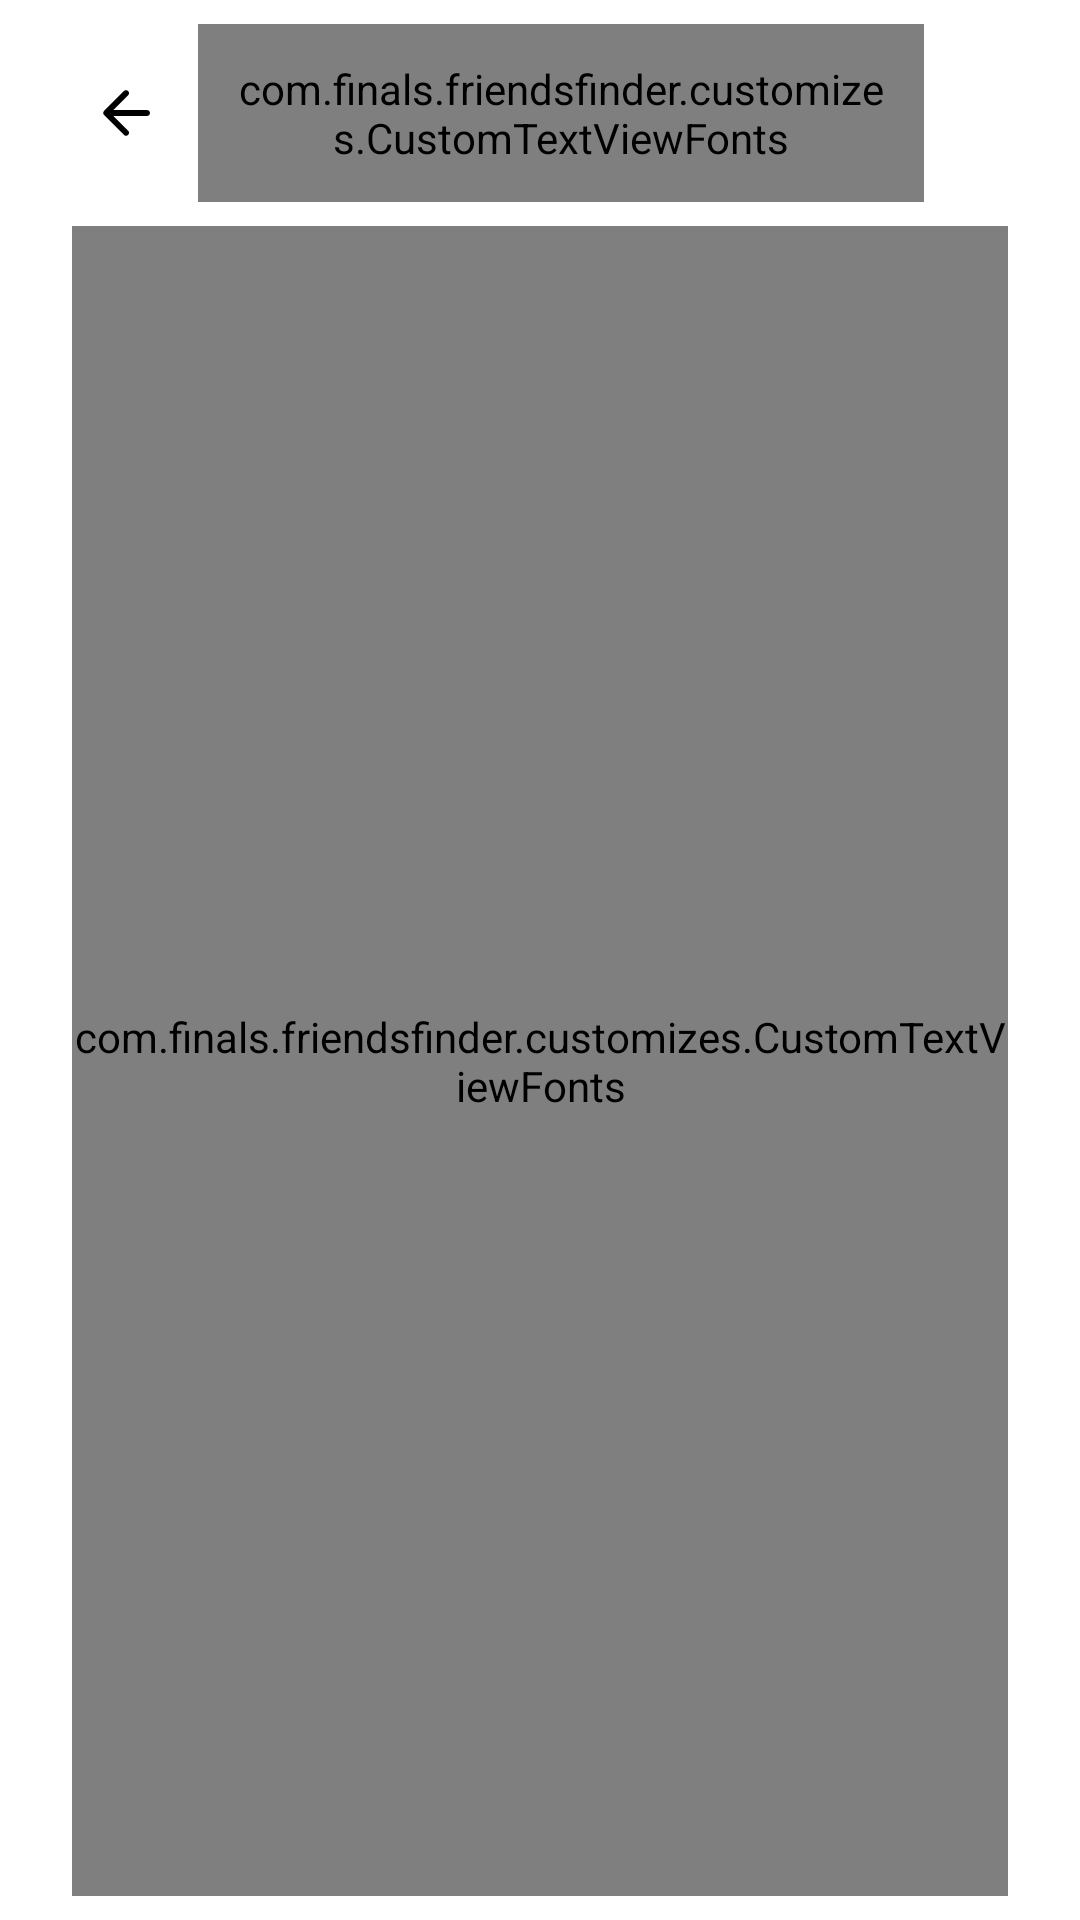

Icon click points for this 1080x1920 phone screenshot, format [x,y]:
arrow back: [126,113]
